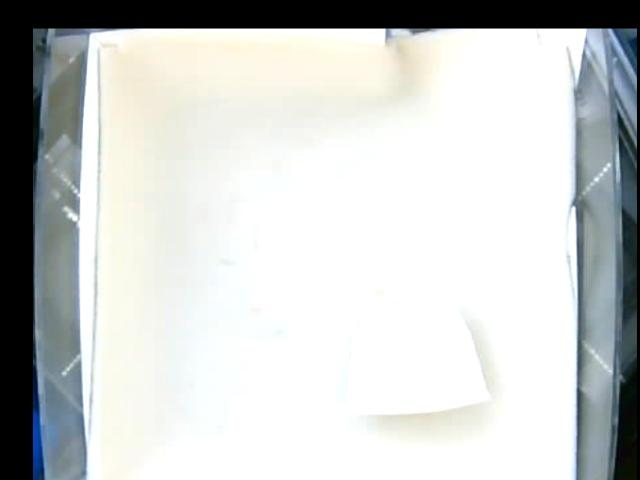Cup: (346, 294, 488, 418)
